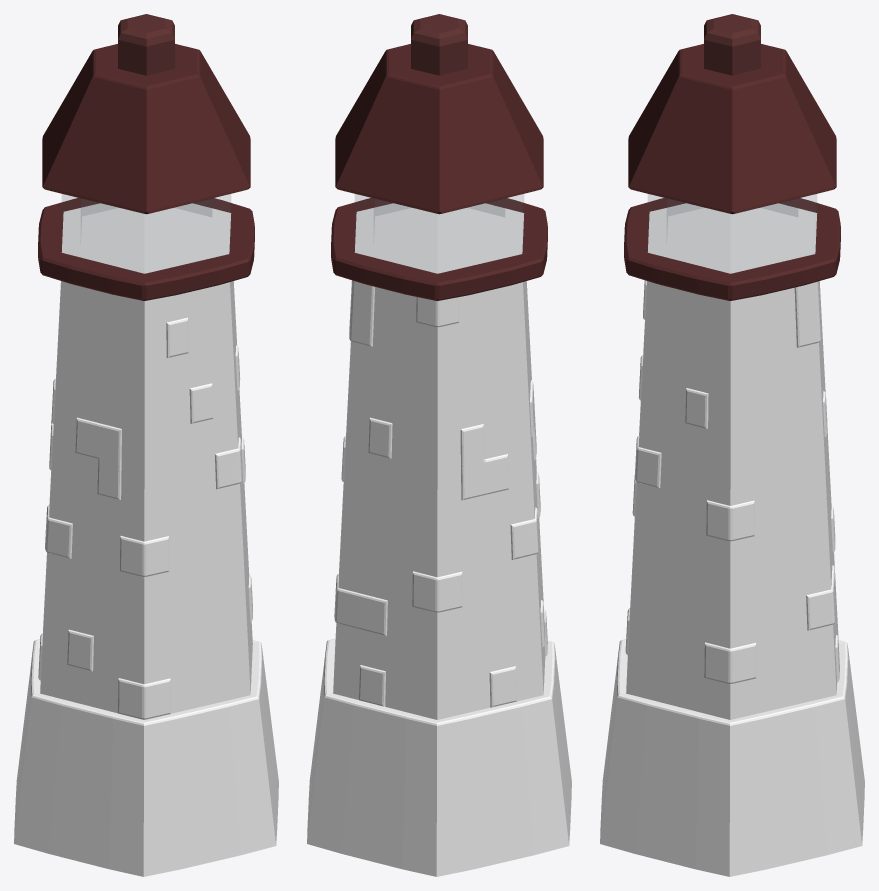
Rendered from Lighthouse.glb.
3 renders of one model, left to right at view 1: azimuth 30°, elevation 25°; view 2: azimuth 150°, elevation 25°; view 3: azimuth 270°, elevation 25°, orthographic.
Visible parts, largest first — view 1: Lighthouse; view 2: Lighthouse; view 3: Lighthouse.
Part boxes in pixels (box(x1,y1,x2,y2)): Lighthouse: box(14, 14, 278, 876); Lighthouse: box(307, 14, 571, 876); Lighthouse: box(600, 14, 864, 876).
Size of the model in its own units: 0.726 by 2.09 by 0.6355.
